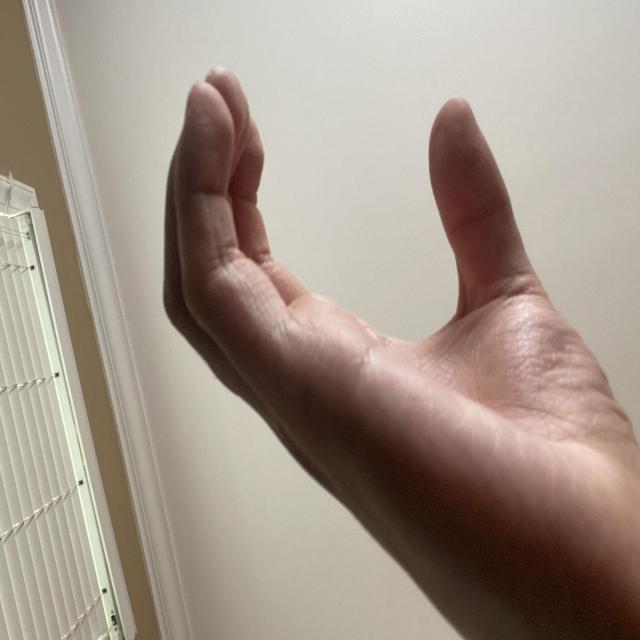C: (1, 197, 437, 640)
